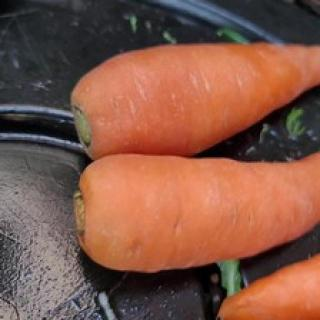carrot: (73, 153, 320, 273), (67, 40, 320, 154)
